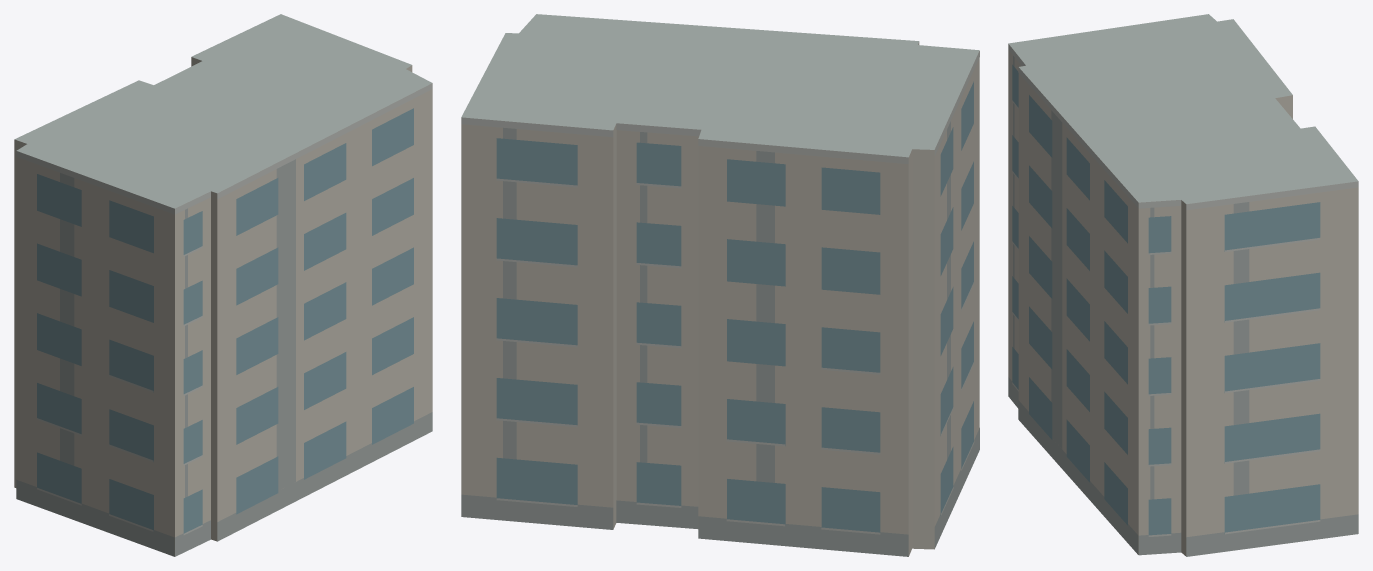
Rendered from survey-upis-32863667.glb.
The picture shows the model from 3 angles, left to right: view 1: azimuth 30°, elevation 25°; view 2: azimuth 150°, elevation 25°; view 3: azimuth 270°, elevation 25°; orthographic projection. The views are drawn at different scales.
Visible parts, largest first — view 1: survey-upis-32863667.tmp; view 2: survey-upis-32863667.tmp; view 3: survey-upis-32863667.tmp.
Boxes of the visible parts, x1=… form: survey-upis-32863667.tmp: x1=14, y1=14, x2=432, y2=556; survey-upis-32863667.tmp: x1=461, y1=14, x2=979, y2=556; survey-upis-32863667.tmp: x1=1008, y1=14, x2=1358, y2=556.
Size of the model in its own units: 16.55 by 14.3 by 12.89.
